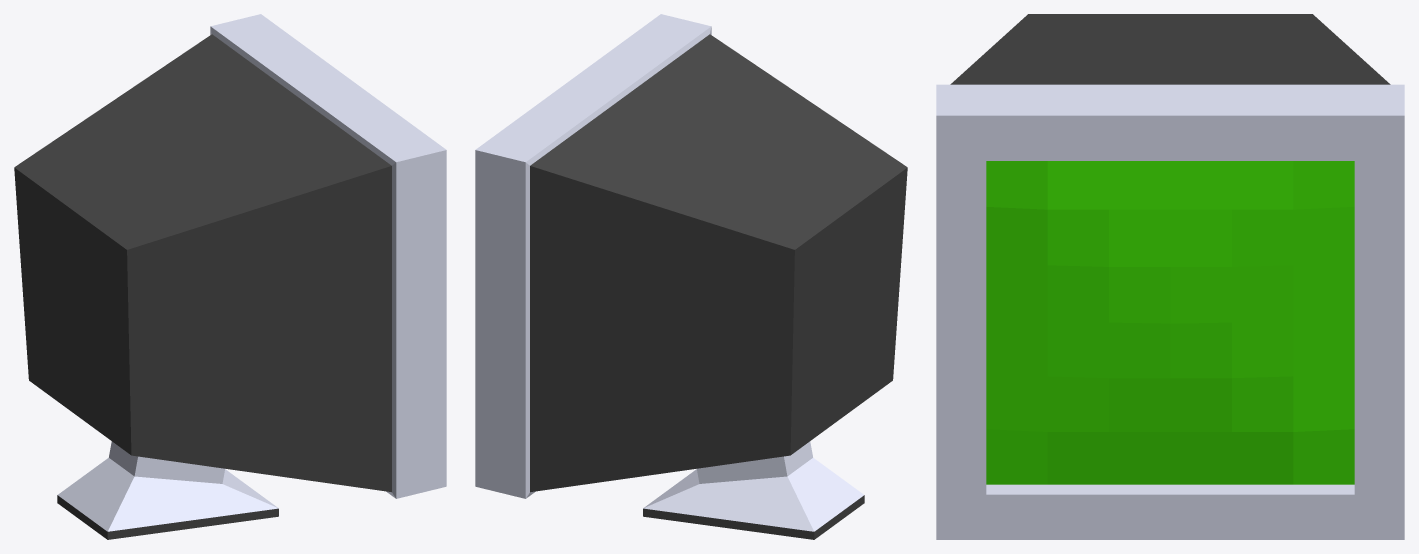
Rendered from Computer.fbx.
3 views of the same model, side by side, from view 1: azimuth 30°, elevation 25°; view 2: azimuth 150°, elevation 25°; view 3: azimuth 270°, elevation 25° (orthographic). The views are drawn at different scales.
Parts seen in each view (by area): view 1: SM_Computer; view 2: SM_Computer; view 3: SM_Computer.
Part boxes in pixels (left/top/right/bottom): SM_Computer: left=14, top=14, right=446, bottom=539; SM_Computer: left=475, top=14, right=907, bottom=539; SM_Computer: left=936, top=14, right=1404, bottom=539.
Bounding box in the file's own units: 52.25 × 65.82 × 59.34.
